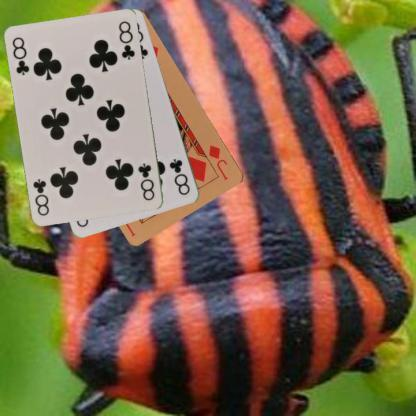8c: (167, 156, 192, 196), (10, 35, 31, 77), (136, 160, 156, 202)
Jd: (206, 142, 230, 182)
